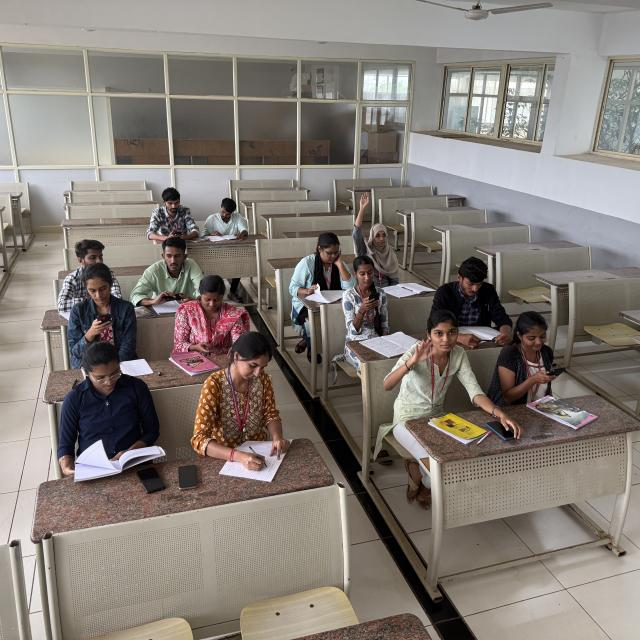Hand Rising: (352, 189, 398, 272)
Reading: (60, 348, 167, 472), (429, 257, 509, 337), (291, 234, 350, 301), (204, 194, 248, 240)
Using Phone: (177, 276, 250, 369), (68, 264, 137, 350), (502, 310, 567, 393), (132, 239, 206, 302), (342, 257, 389, 333), (147, 185, 200, 240)
Writing: (206, 334, 292, 478)
